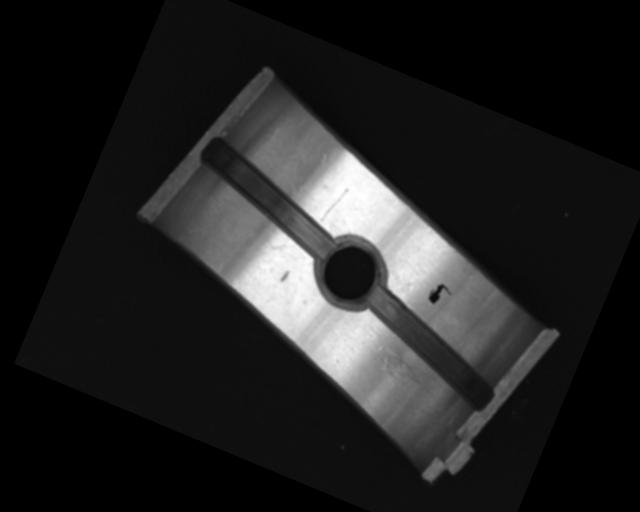blot: (425, 279, 454, 310)
bruise: (278, 267, 291, 285)
gap: (345, 283, 515, 413), (182, 136, 354, 263)
hole: (305, 226, 396, 316)
nick: (318, 182, 348, 226)
scratch: (354, 322, 458, 399)
